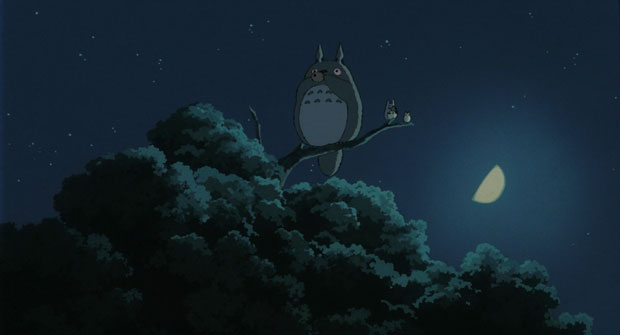Totoro: (289, 41, 365, 184)
